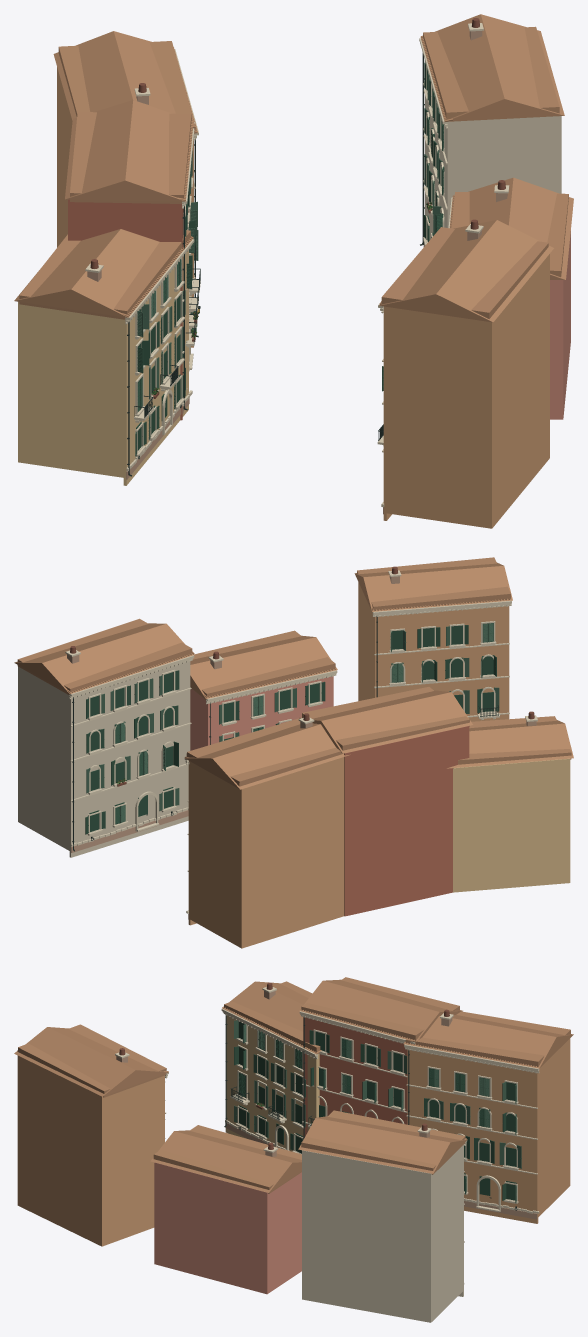
Rendered from canal-06.glb.
3 renders of one model, top to bottom at view 1: azimuth 30°, elevation 25°; view 2: azimuth 150°, elevation 25°; view 3: azimuth 270°, elevation 25°, orthographic. The views are drawn at different scales.
Visible parts, largest first — view 1: Main elevations / kit:roof, Main elevations / kit:walls:0, Main elevations / kit:walls:2, Distant elevations / kit:roof, Main elevations / kit:stone, Distant elevations / kit:walls:3, Main elevations / kit:walls:3, Distant elevations / kit:walls:2, Main elevations / kit:walls:4, Main elevations / kit:walls:1, Main elevations / kit:greenDark, Main elevations / kit:green (+6 smaller); view 2: Main elevations / kit:walls:0, Main elevations / kit:roof, Main elevations / kit:walls:4, Distant elevations / kit:walls:3, Main elevations / kit:walls:2, Distant elevations / kit:roof, Main elevations / kit:stone, Distant elevations / kit:greenDark, Main elevations / kit:walls:3, Distant elevations / kit:walls:0, Main elevations / kit:green, Main elevations / kit:greenDark (+5 smaller); view 3: Main elevations / kit:walls:0, Main elevations / kit:roof, Main elevations / kit:walls:3, Main elevations / kit:walls:1, Distant elevations / kit:roof, Main elevations / kit:stone, Distant elevations / kit:walls:4, Distant elevations / kit:walls:0, Distant elevations / kit:walls:3, Distant elevations / kit:greenDark, Main elevations / kit:walls:2, Main elevations / kit:greenDark (+6 smaller).
Part boxes in pixels (box(x1,y1,x2,y2)): Main elevations / kit:roof: box(14, 14, 573, 322); Main elevations / kit:walls:0: box(57, 67, 549, 528); Main elevations / kit:walls:2: box(18, 254, 188, 485); Distant elevations / kit:roof: box(19, 26, 568, 319); Main elevations / kit:stone: box(85, 23, 509, 507); Distant elevations / kit:walls:3: box(426, 79, 521, 239); Main elevations / kit:walls:3: box(424, 60, 561, 215); Distant elevations / kit:walls:2: box(109, 249, 188, 477); Main elevations / kit:walls:4: box(68, 199, 188, 420); Main elevations / kit:walls:1: box(550, 231, 570, 419); Main elevations / kit:greenDark: box(137, 62, 443, 446); Main elevations / kit:green: box(135, 73, 441, 456); Main elevations / kit:walls:0: box(188, 582, 509, 948); Main elevations / kit:roof: box(14, 562, 573, 789); Main elevations / kit:walls:4: box(344, 726, 469, 916); Distant elevations / kit:walls:3: box(19, 661, 190, 850); Main elevations / kit:walls:2: box(453, 758, 570, 892); Distant elevations / kit:roof: box(17, 557, 571, 786); Main elevations / kit:stone: box(65, 570, 537, 913); Distant elevations / kit:greenDark: box(89, 623, 493, 831); Main elevations / kit:walls:3: box(18, 666, 188, 857); Distant elevations / kit:walls:0: box(189, 583, 495, 919); Main elevations / kit:green: box(86, 623, 499, 822); Main elevations / kit:greenDark: box(85, 625, 496, 834); Main elevations / kit:walls:0: box(17, 1038, 570, 1246); Main elevations / kit:roof: box(14, 979, 573, 1192); Main elevations / kit:walls:3: box(302, 1144, 463, 1322); Main elevations / kit:walls:1: box(154, 1162, 301, 1294); Distant elevations / kit:roof: box(17, 977, 570, 1193); Main elevations / kit:stone: box(115, 987, 539, 1284); Distant elevations / kit:walls:4: box(303, 1017, 407, 1137); Distant elevations / kit:walls:0: box(104, 1068, 538, 1245); Distant elevations / kit:walls:3: box(432, 1145, 462, 1321); Distant elevations / kit:greenDark: box(239, 1021, 516, 1200); Main elevations / kit:walls:2: box(225, 1015, 319, 1151); Main elevations / kit:greenDark: box(234, 1030, 516, 1200).
Size of the model in its own units: 50.78 by 19.33 by 54.09.
